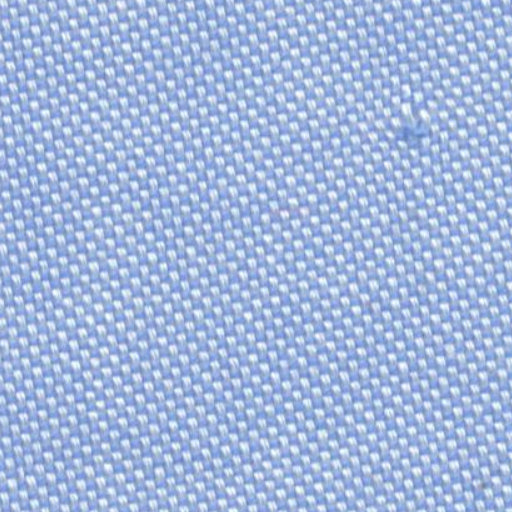PoDong: (380, 98, 445, 167)
